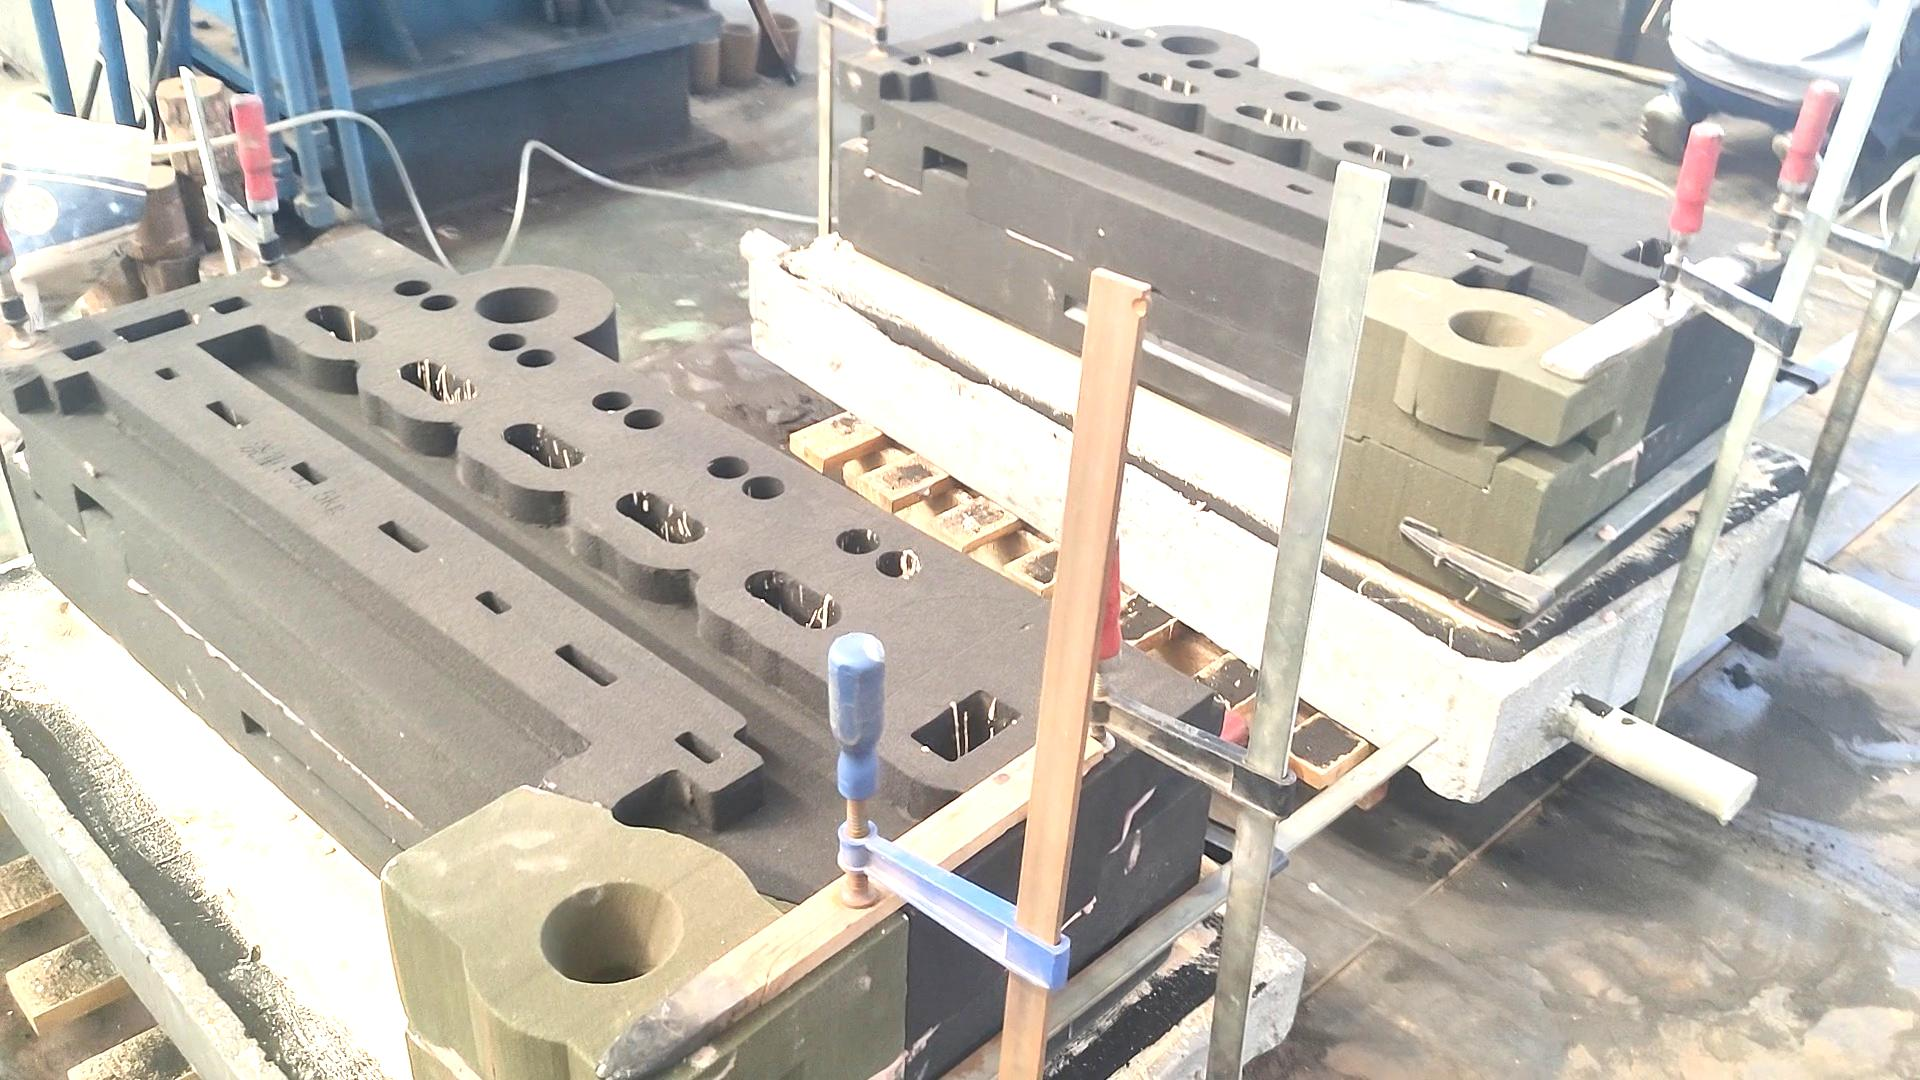pouring hole: (537, 881, 680, 984), (1448, 309, 1534, 348), (475, 287, 559, 324), (1160, 36, 1220, 55), (762, 12, 796, 33), (721, 22, 757, 36), (680, 33, 719, 44)
